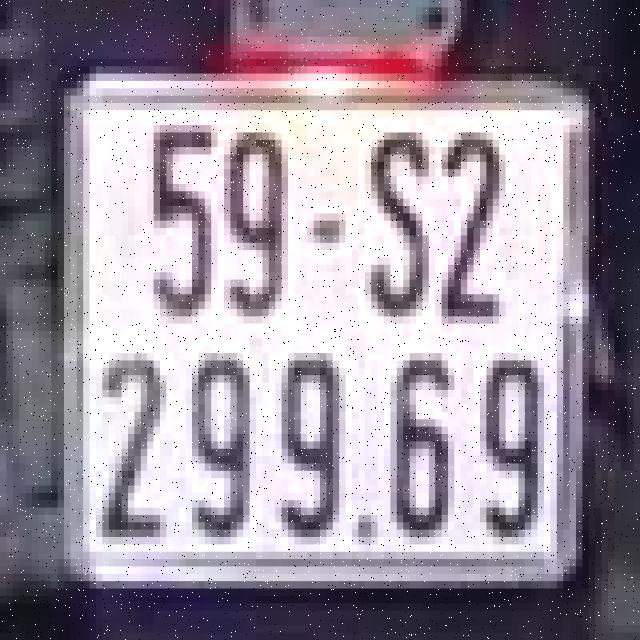2: (80, 338, 176, 544), (438, 110, 509, 324)
5: (144, 114, 221, 327)
6: (381, 346, 464, 544)
9: (269, 349, 352, 548), (182, 338, 260, 544), (477, 338, 547, 544), (224, 125, 294, 324)
S: (358, 118, 436, 324)
